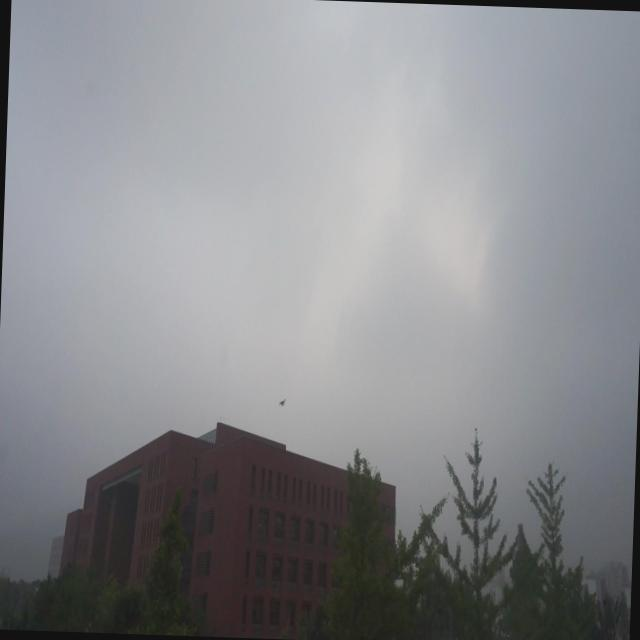drone: (276, 392, 288, 412)
